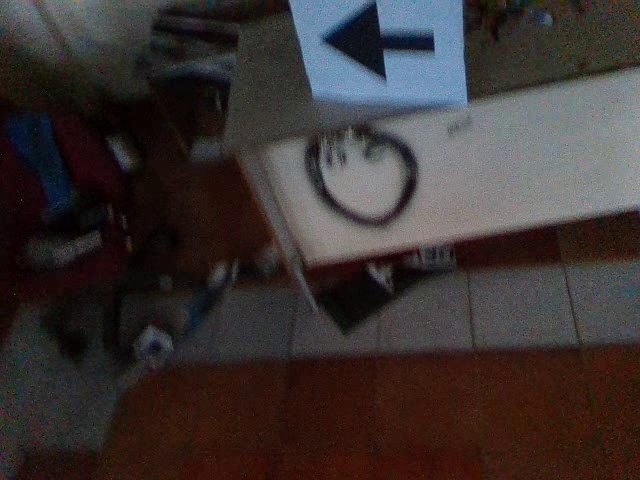Left: (311, 0, 445, 90)
